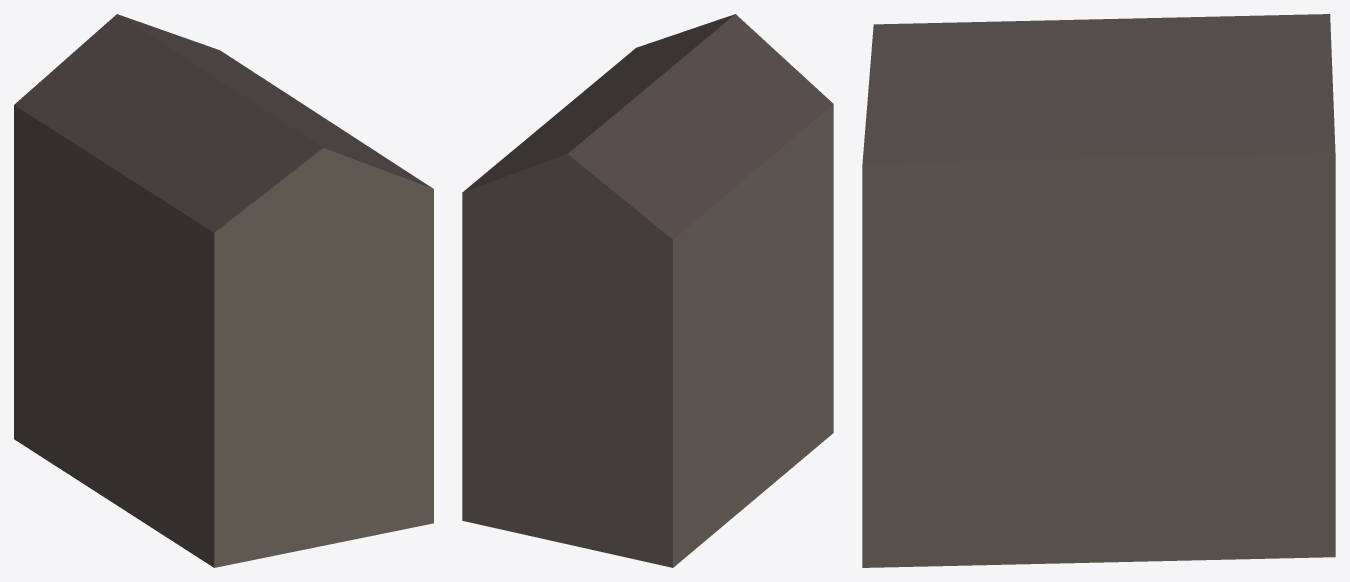
The picture shows the model from 3 angles, left to right: view 1: azimuth 30°, elevation 25°; view 2: azimuth 150°, elevation 25°; view 3: azimuth 270°, elevation 25°; orthographic projection. The views are drawn at different scales.
Parts seen in each view (by area): view 1: HP-w1512965852; view 2: HP-w1512965852; view 3: HP-w1512965852.
Part boxes in pixels (x1,y1,x2,y2): HP-w1512965852: [14, 14, 433, 567]; HP-w1512965852: [462, 14, 833, 567]; HP-w1512965852: [862, 14, 1335, 567].
Size of the model in its own units: 4.3 by 7.14 by 6.36.
